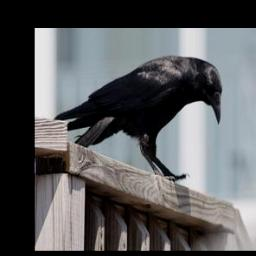Crow: (52, 54, 222, 181)
